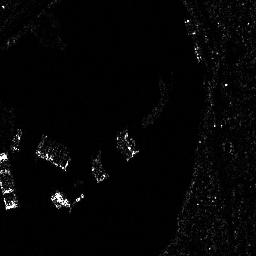ship: (1, 153, 19, 211), (11, 128, 23, 153)
